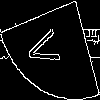V: (25, 25, 68, 72)
